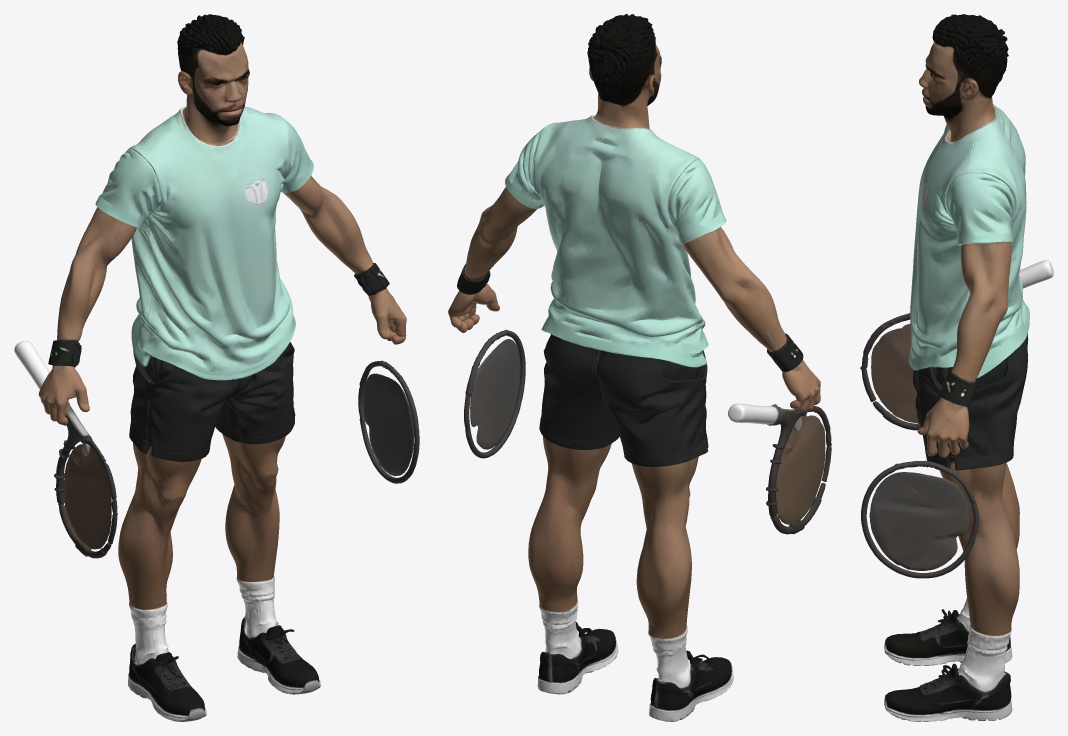
File: rodin-perricard.glb
The picture shows the model from 3 angles, left to right: view 1: azimuth 30°, elevation 25°; view 2: azimuth 150°, elevation 25°; view 3: azimuth 270°, elevation 25°; orthographic projection.
Visible parts, largest first — view 1: model; view 2: model; view 3: model.
Part boxes in pixels (x1,y1,x2,y2): model: (14,14,419,721); model: (448,14,831,721); model: (860,14,1053,721).
Size of the model in its own units: 1.07 by 1.9 by 0.4973.
Materials: 1 (1 with a texture image).
